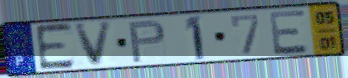1: (183, 14, 208, 62)
7: (227, 13, 262, 57)
E: (33, 21, 77, 73), (267, 8, 312, 57)
P: (127, 18, 168, 64)
V: (72, 19, 115, 68)
